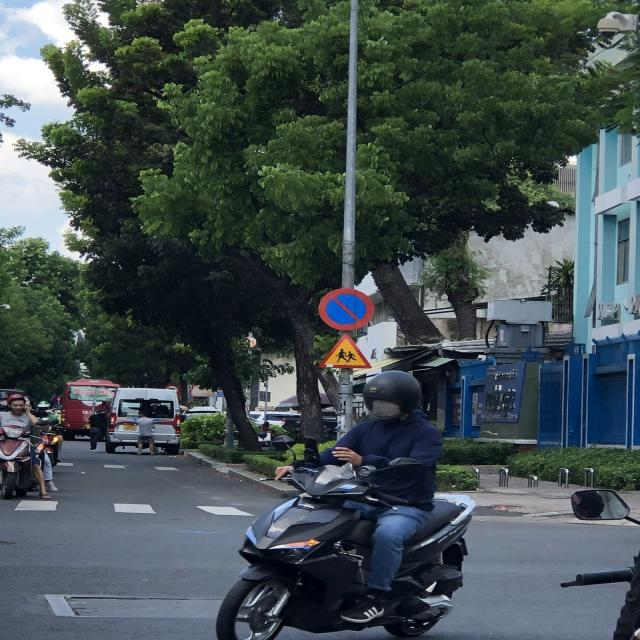Bien bao cam do xe: (314, 286, 375, 332)
Bien bao tre em: (318, 332, 379, 370)
